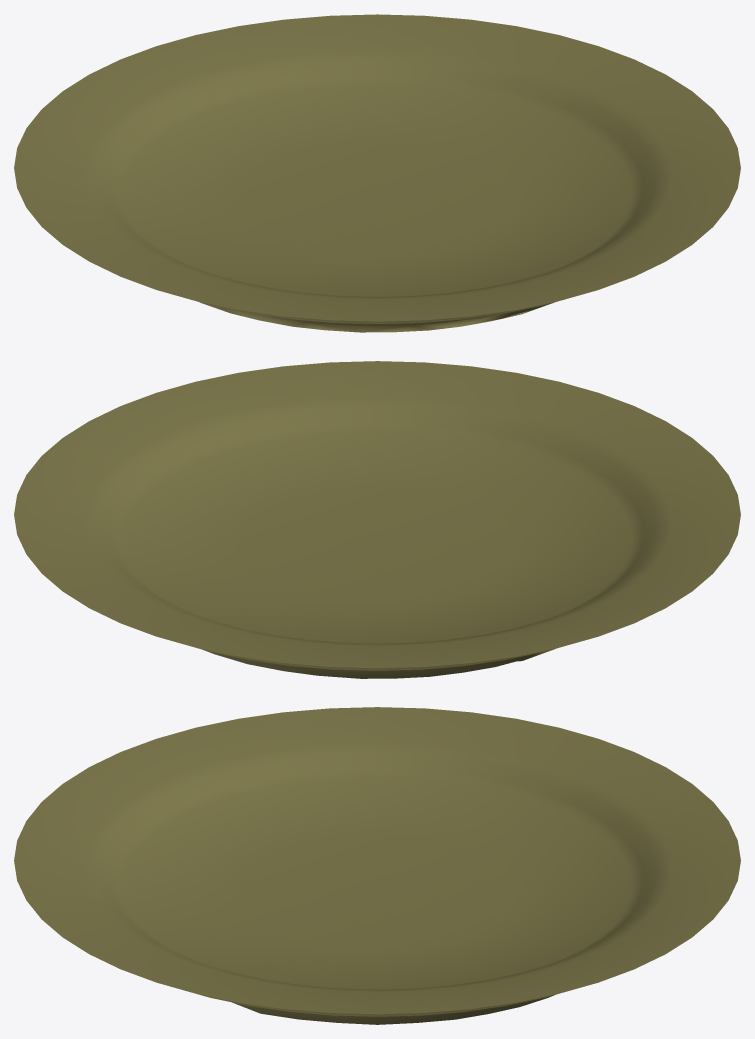
File: Plato.fbx
3 renders of one model, top to bottom at view 1: azimuth 30°, elevation 25°; view 2: azimuth 150°, elevation 25°; view 3: azimuth 270°, elevation 25°, orthographic.
Visible parts, largest first — view 1: Plato; view 2: Plato; view 3: Plato.
Part boxes in pixels (x1,y1,x2,y2): Plato: (14, 14, 740, 332); Plato: (14, 361, 740, 678); Plato: (14, 707, 740, 1024).
Bounding box in the file's own units: 6.32 × 0.5191 × 6.32.
